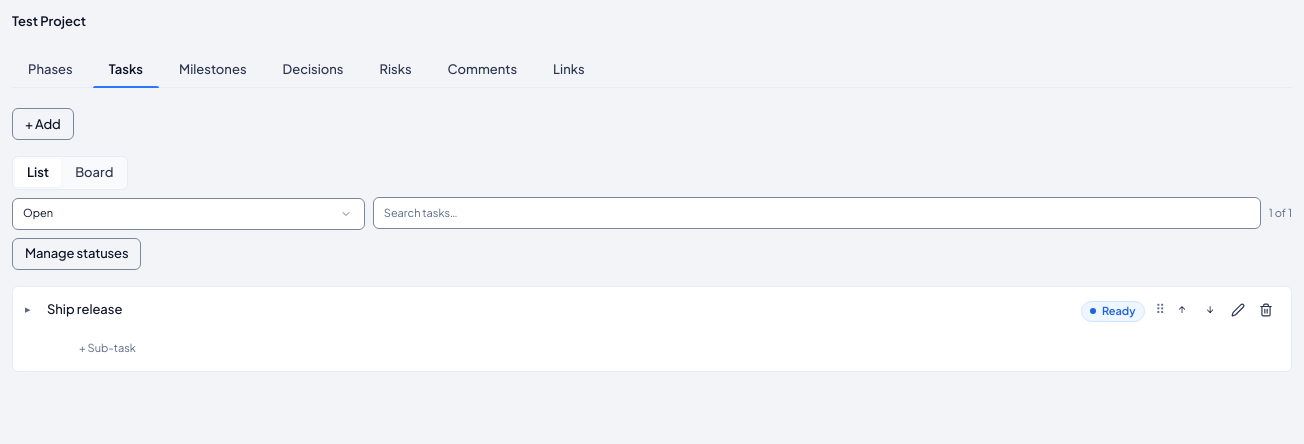
Test: PlanningPanel › provides a live finder in each requested Planning collection
The width and height of the screenshot is (1304, 444).
In the search field labelled "Search tasks": (817, 213) [373, 197, 1261, 229], type "SHIP"
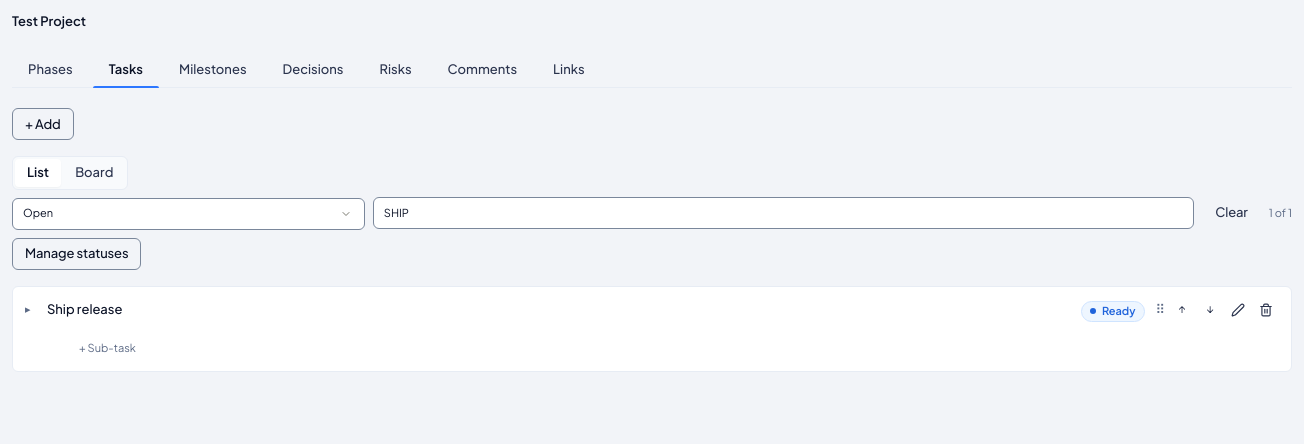
Expected: the text "Ship release" is shown, [47, 301, 122, 317]
Click the tab "Milestones": (213, 69) [163, 52, 262, 87]
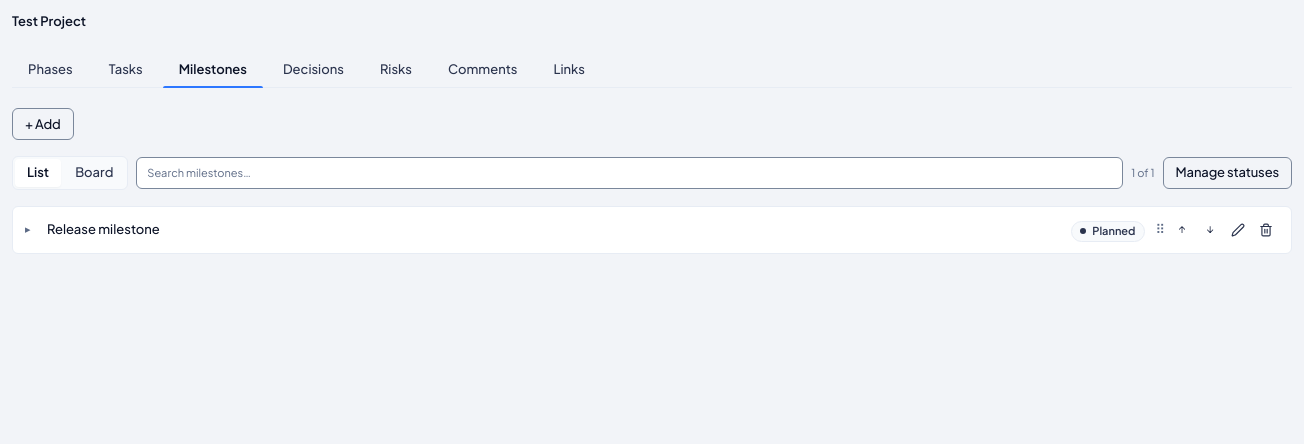
Result: the search field labelled "Search milestones" is shown at [136, 157, 1123, 189]
Click the tab "Decisions": (313, 69) [267, 52, 360, 87]
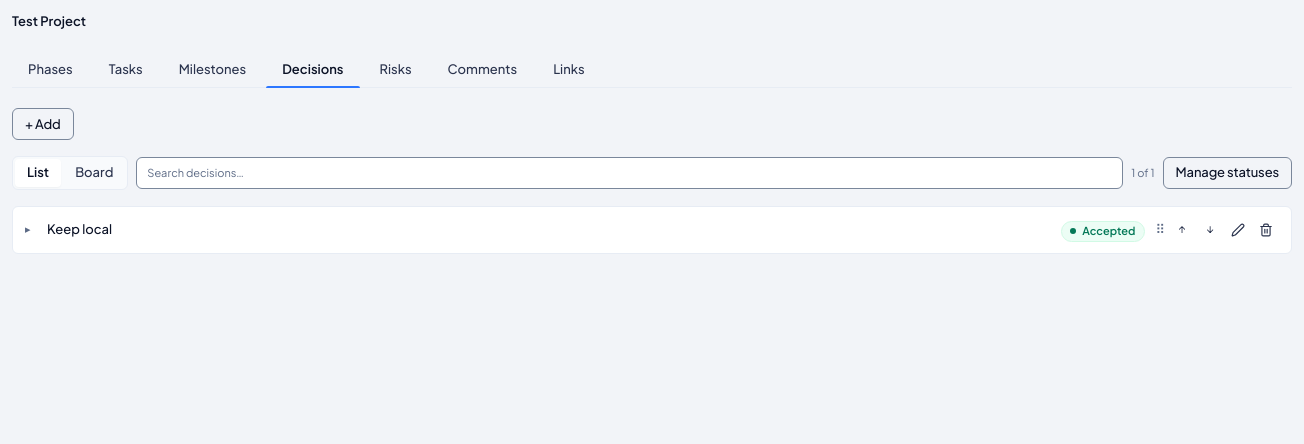
Result: the search field labelled "Search decisions" is shown at [136, 157, 1123, 189]
Click the tab "Risks": (396, 69) [364, 52, 428, 87]
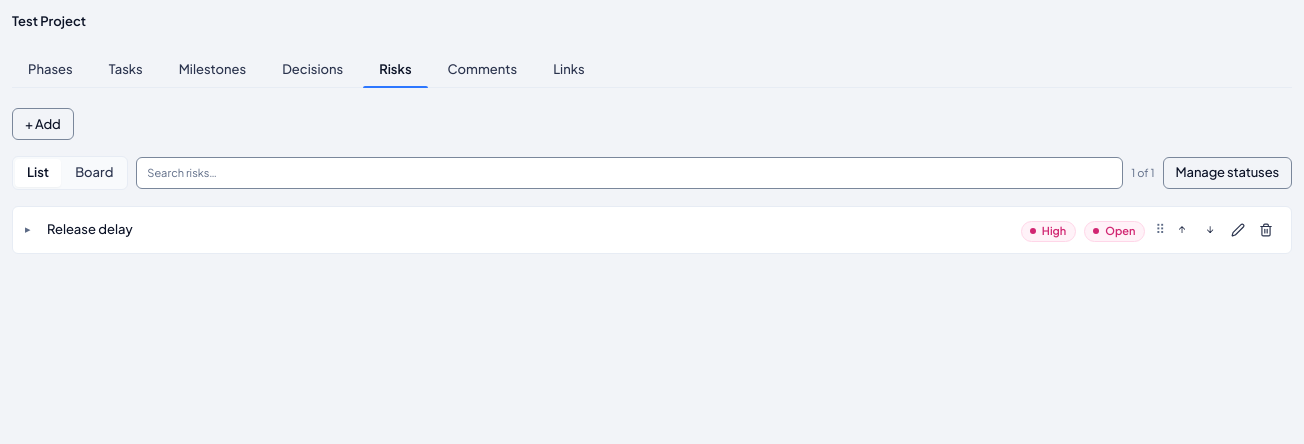
Result: the search field labelled "Search risks" is shown at [136, 157, 1123, 189]
Click the tab "Comments": (482, 69) [432, 52, 533, 87]
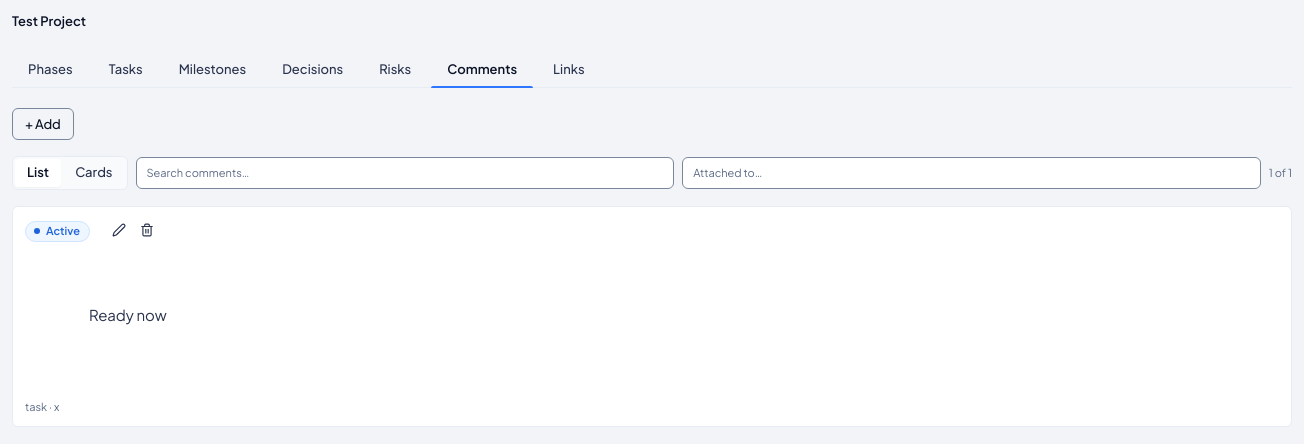
Result: the search field labelled "Search comments" is shown at [136, 157, 674, 189]
Click the tab "Links": (569, 69) [537, 52, 601, 87]
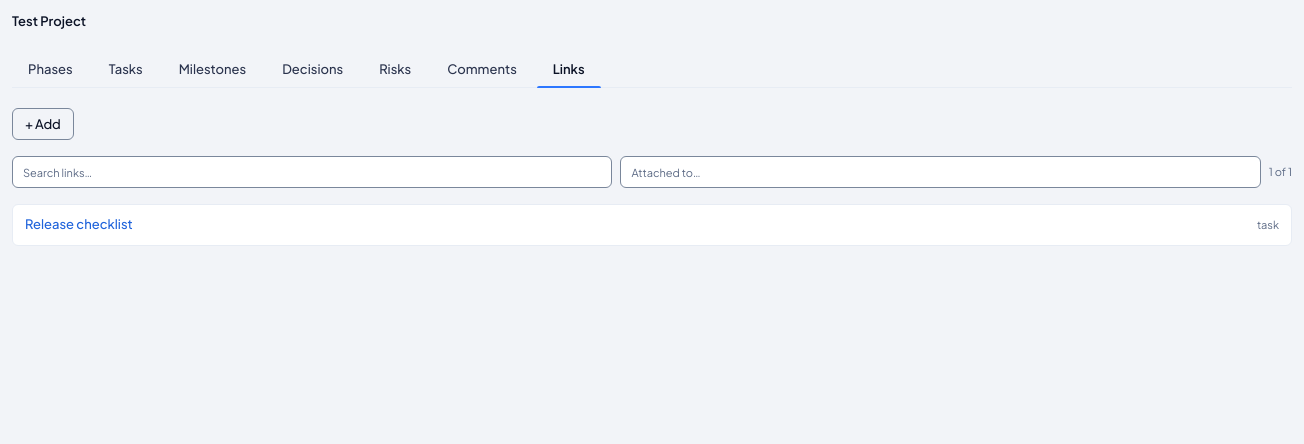
Result: the search field labelled "Search links" is shown at [12, 156, 612, 188]
